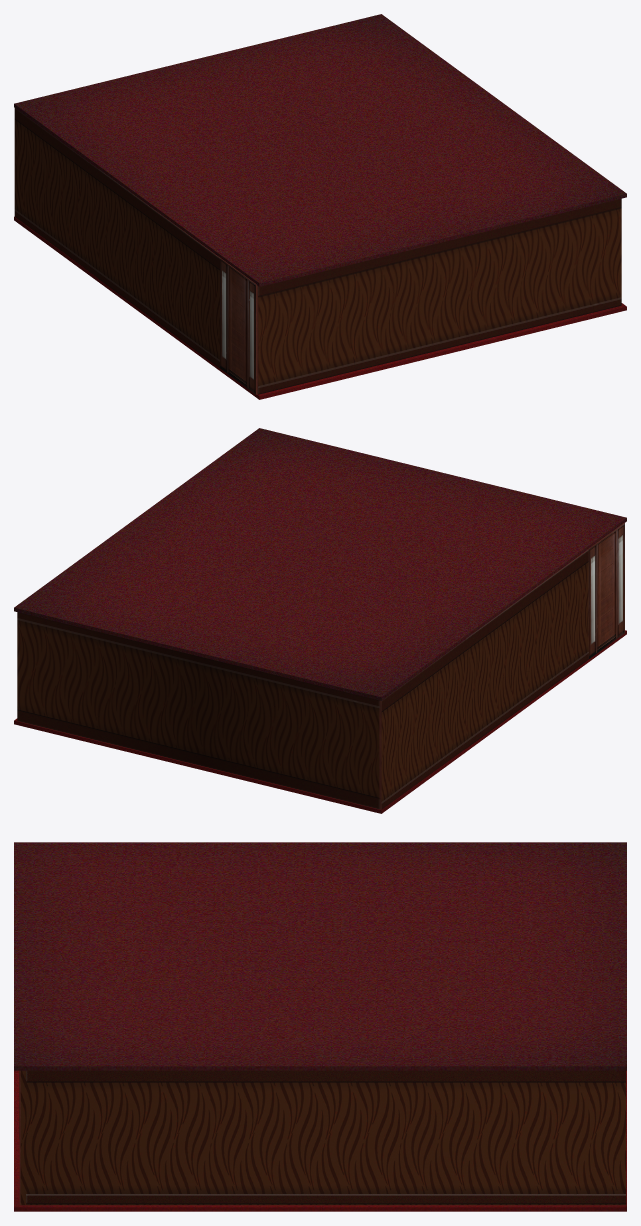
File: bar set.obj
3 renders of one model, top to bottom at view 1: azimuth 30°, elevation 25°; view 2: azimuth 150°, elevation 25°; view 3: azimuth 270°, elevation 25°, orthographic. The views are drawn at different scales.
Parts seen in each view (by area): view 1: polySurface185 polySurface764, polySurface762, polySurface1167, polySurface714 polySurface185; view 2: polySurface185 polySurface764, polySurface762, polySurface1167, polySurface714 polySurface185; view 3: polySurface185 polySurface764, polySurface762, polySurface714 polySurface185.
Boxes of the visible parts, <box> form: polySurface185 polySurface764: <box>14,14,626,286</box>; polySurface762: <box>14,108,621,394</box>; polySurface1167: <box>220,258,257,394</box>; polySurface714 polySurface185: <box>14,216,626,399</box>; polySurface185 polySurface764: <box>14,428,626,700</box>; polySurface762: <box>17,549,588,809</box>; polySurface1167: <box>588,522,624,659</box>; polySurface714 polySurface185: <box>14,630,626,813</box>; polySurface185 polySurface764: <box>14,842,626,1070</box>; polySurface762: <box>19,1070,625,1205</box>; polySurface714 polySurface185: <box>14,1070,626,1211</box>.
Size of the model in its own units: 62.52 by 18.92 by 72.18.
Materials: 7 (7 with a texture image).
